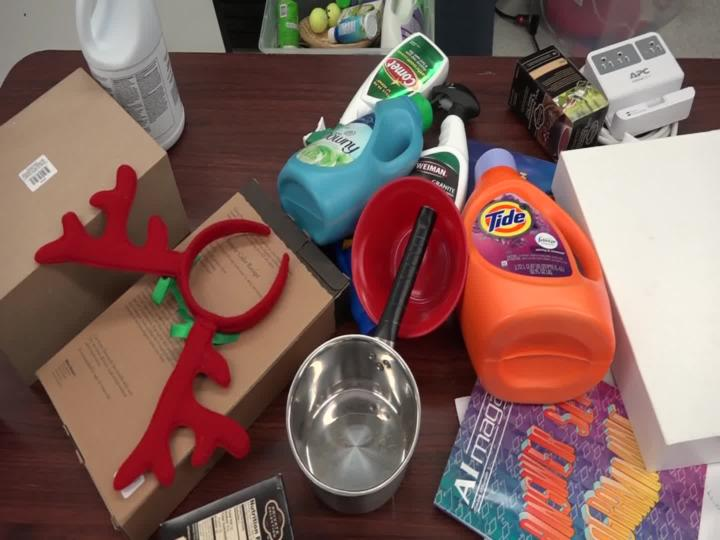tide: (434, 125, 629, 412)
